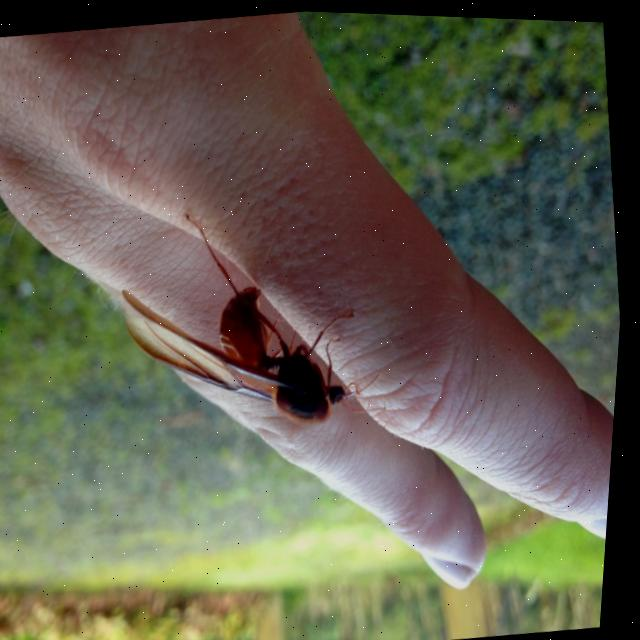Alive-Male-Alate: (108, 184, 403, 445)
